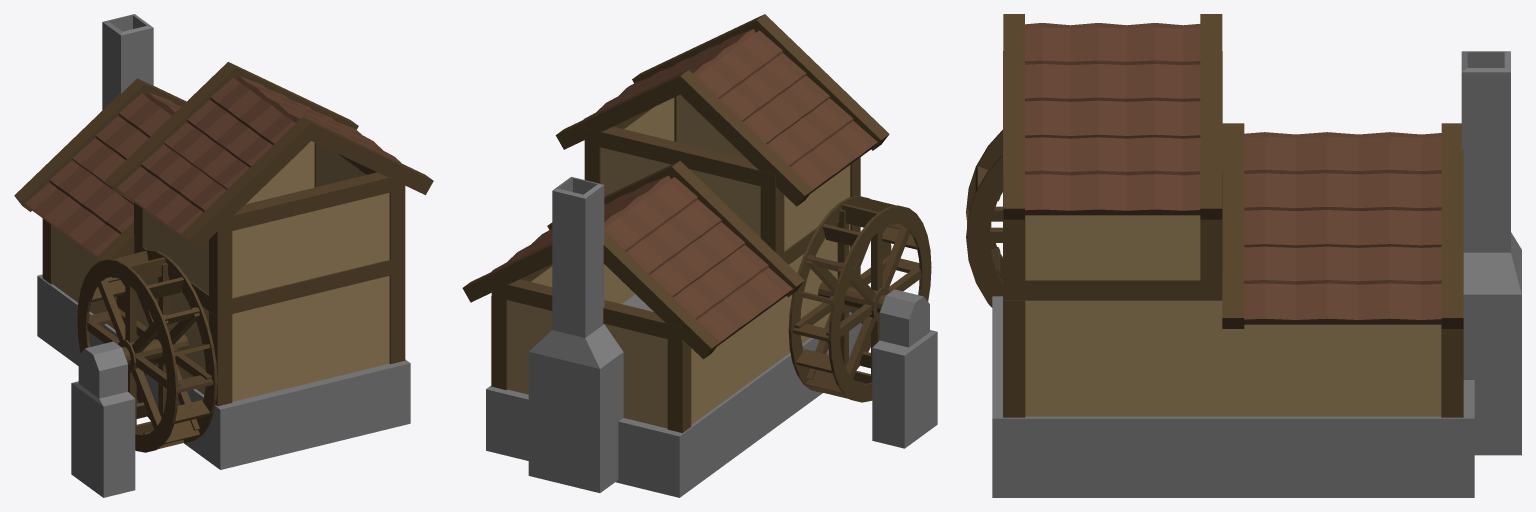
File: Water Mill dm.fbx
3 renders of one model, left to right at view 1: azimuth 30°, elevation 25°; view 2: azimuth 150°, elevation 25°; view 3: azimuth 270°, elevation 25°, orthographic. The views are drawn at different scales.
Visible parts, largest first — view 1: Base.001, Base, lower roof.005, lower roof.030, lower roof.309, lower roof.028, lower roof.238, lower roof.245, lower roof.001, lower roof.113, lower roof.107, lower roof.115 (+78 smaller); view 2: Base.001, Base.002, Base, lower roof.005, lower roof.024, lower roof.030, lower roof.028, lower roof.309, lower roof.022, lower roof.240, lower roof.282, lower roof.239 (+87 smaller); view 3: Base.001, lower roof.004, lower roof.029, lower roof.023, lower roof.307, lower roof.027, lower roof.021, lower roof.000, lower roof.025, lower roof.019, lower roof.006, lower roof.007 (+71 smaller).
Boxes of the visible parts, x1=… form: Base.001: x1=37, y1=274, x2=410, y2=469; Base: x1=71, y1=416, x2=135, y2=497; lower roof.005: x1=134, y1=157, x2=213, y2=227; lower roof.030: x1=25, y1=160, x2=103, y2=230; lower roof.309: x1=164, y1=100, x2=238, y2=164; lower roof.028: x1=57, y1=184, x2=127, y2=248; lower roof.238: x1=209, y1=200, x2=271, y2=268; lower roof.245: x1=343, y1=167, x2=405, y2=226; lower roof.001: x1=192, y1=121, x2=259, y2=180; lower roof.113: x1=283, y1=317, x2=337, y2=360; lower roof.107: x1=283, y1=288, x2=337, y2=330; lower roof.115: x1=337, y1=305, x2=389, y2=347; Base.001: x1=486, y1=294, x2=862, y2=497; Base.002: x1=528, y1=422, x2=618, y2=492; Base: x1=872, y1=365, x2=937, y2=448; lower roof.005: x1=780, y1=112, x2=859, y2=183; lower roof.024: x1=667, y1=199, x2=745, y2=267; lower roof.030: x1=673, y1=277, x2=748, y2=345; lower roof.028: x1=701, y1=260, x2=772, y2=325; lower roof.309: x1=720, y1=82, x2=790, y2=144; lower roof.022: x1=643, y1=222, x2=713, y2=284; lower roof.240: x1=720, y1=155, x2=784, y2=224; lower roof.282: x1=564, y1=359, x2=613, y2=406; lower roof.239: x1=584, y1=121, x2=648, y2=181; Base.001: x1=992, y1=296, x2=1474, y2=497; lower roof.004: x1=1070, y1=137, x2=1154, y2=215; lower roof.029: x1=1358, y1=246, x2=1441, y2=324; lower roof.023: x1=1244, y1=173, x2=1327, y2=247; lower roof.307: x1=1127, y1=64, x2=1200, y2=138; lower roof.027: x1=1296, y1=246, x2=1358, y2=324; lower roof.021: x1=1327, y1=173, x2=1389, y2=247; lower roof.000: x1=1070, y1=64, x2=1126, y2=138; lower roof.025: x1=1244, y1=246, x2=1295, y2=324; lower roof.019: x1=1390, y1=173, x2=1441, y2=247; lower roof.006: x1=1025, y1=137, x2=1070, y2=215; lower roof.007: x1=1155, y1=137, x2=1200, y2=215.
Size of the model in its own units: 1079 by 1137 by 1268.
